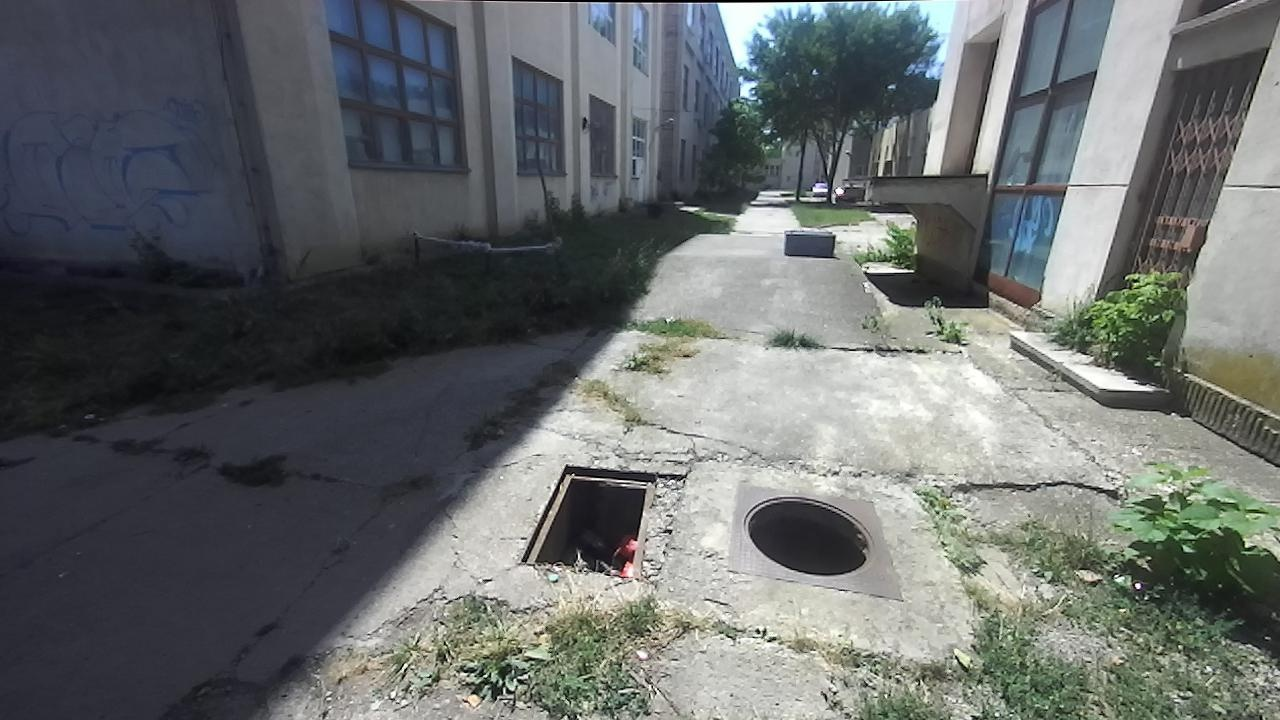drain: (511, 457, 662, 585), (738, 489, 875, 580)
